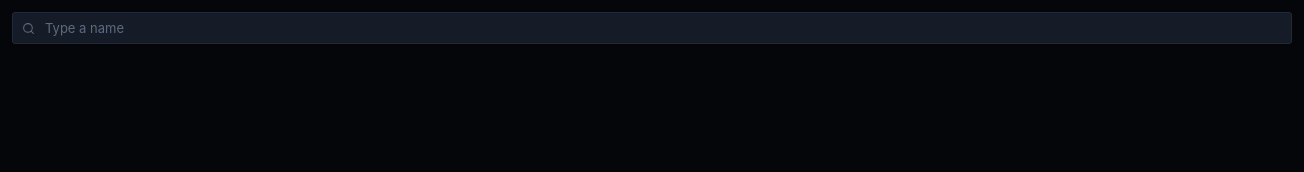
it: form primitives › SearchInput supports typing and clearing through a labelled search landmark
Type "apollo" into the search field named "Find bodies" at [652, 28], box [12,12,1292,44]
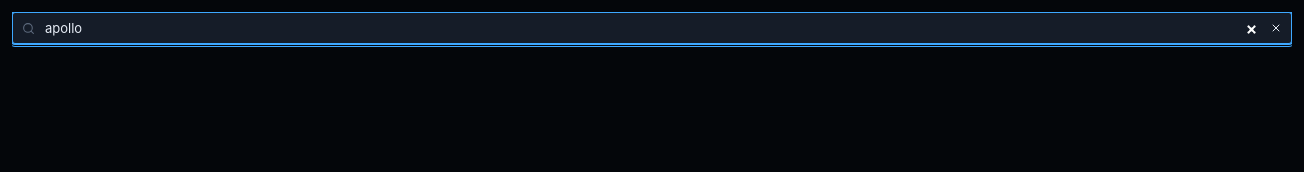
Click the button named "Clear find bodies" at [1276, 28], box [1266,18,1286,38]
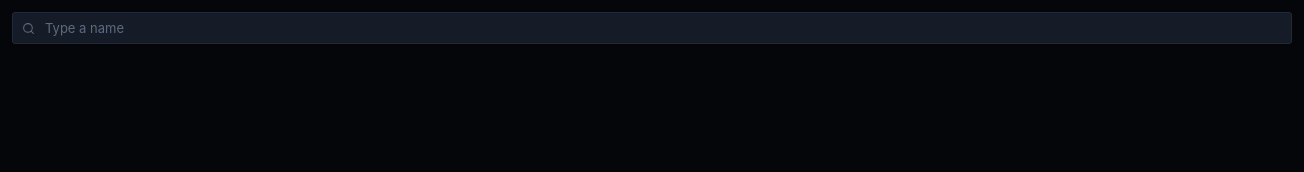
expect the search field named "Find bodies" is empty: met, box [12,12,1292,44]
